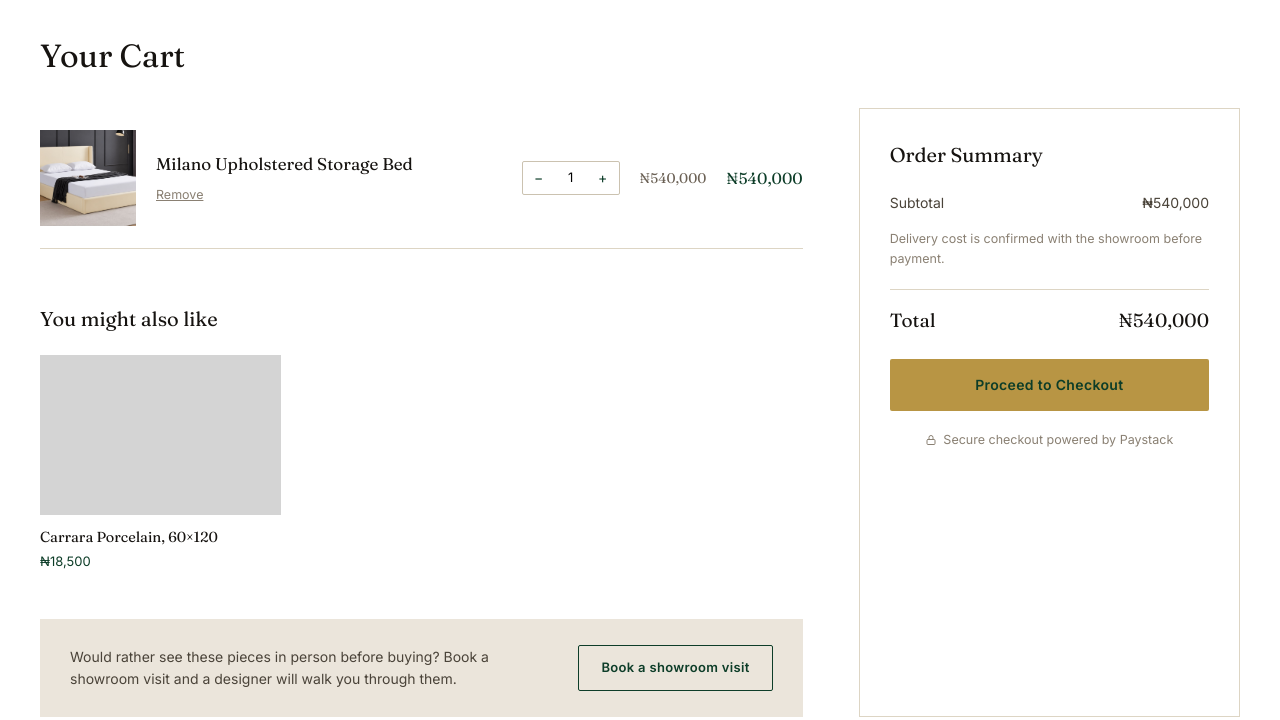
CartView — remove › shows the empty-cart state after removing the last item
The image size is (1280, 720).
Click the button "Remove": x=180, y=195 [156,186,203,205]
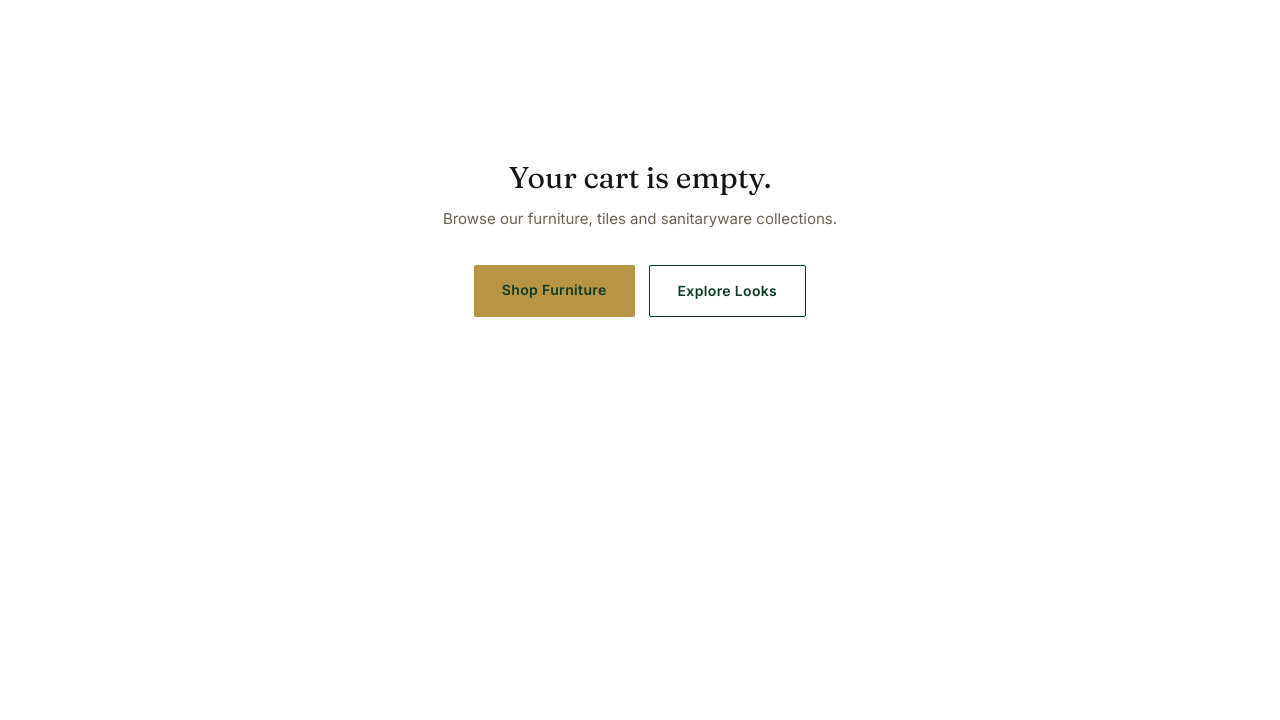
Check: the heading "Your cart is empty." is shown, box [509,159,771,196]
